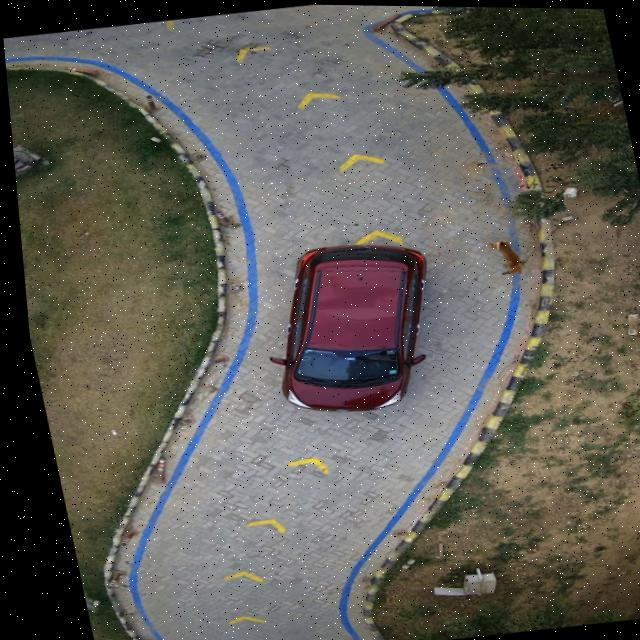car: (264, 242, 420, 410)
